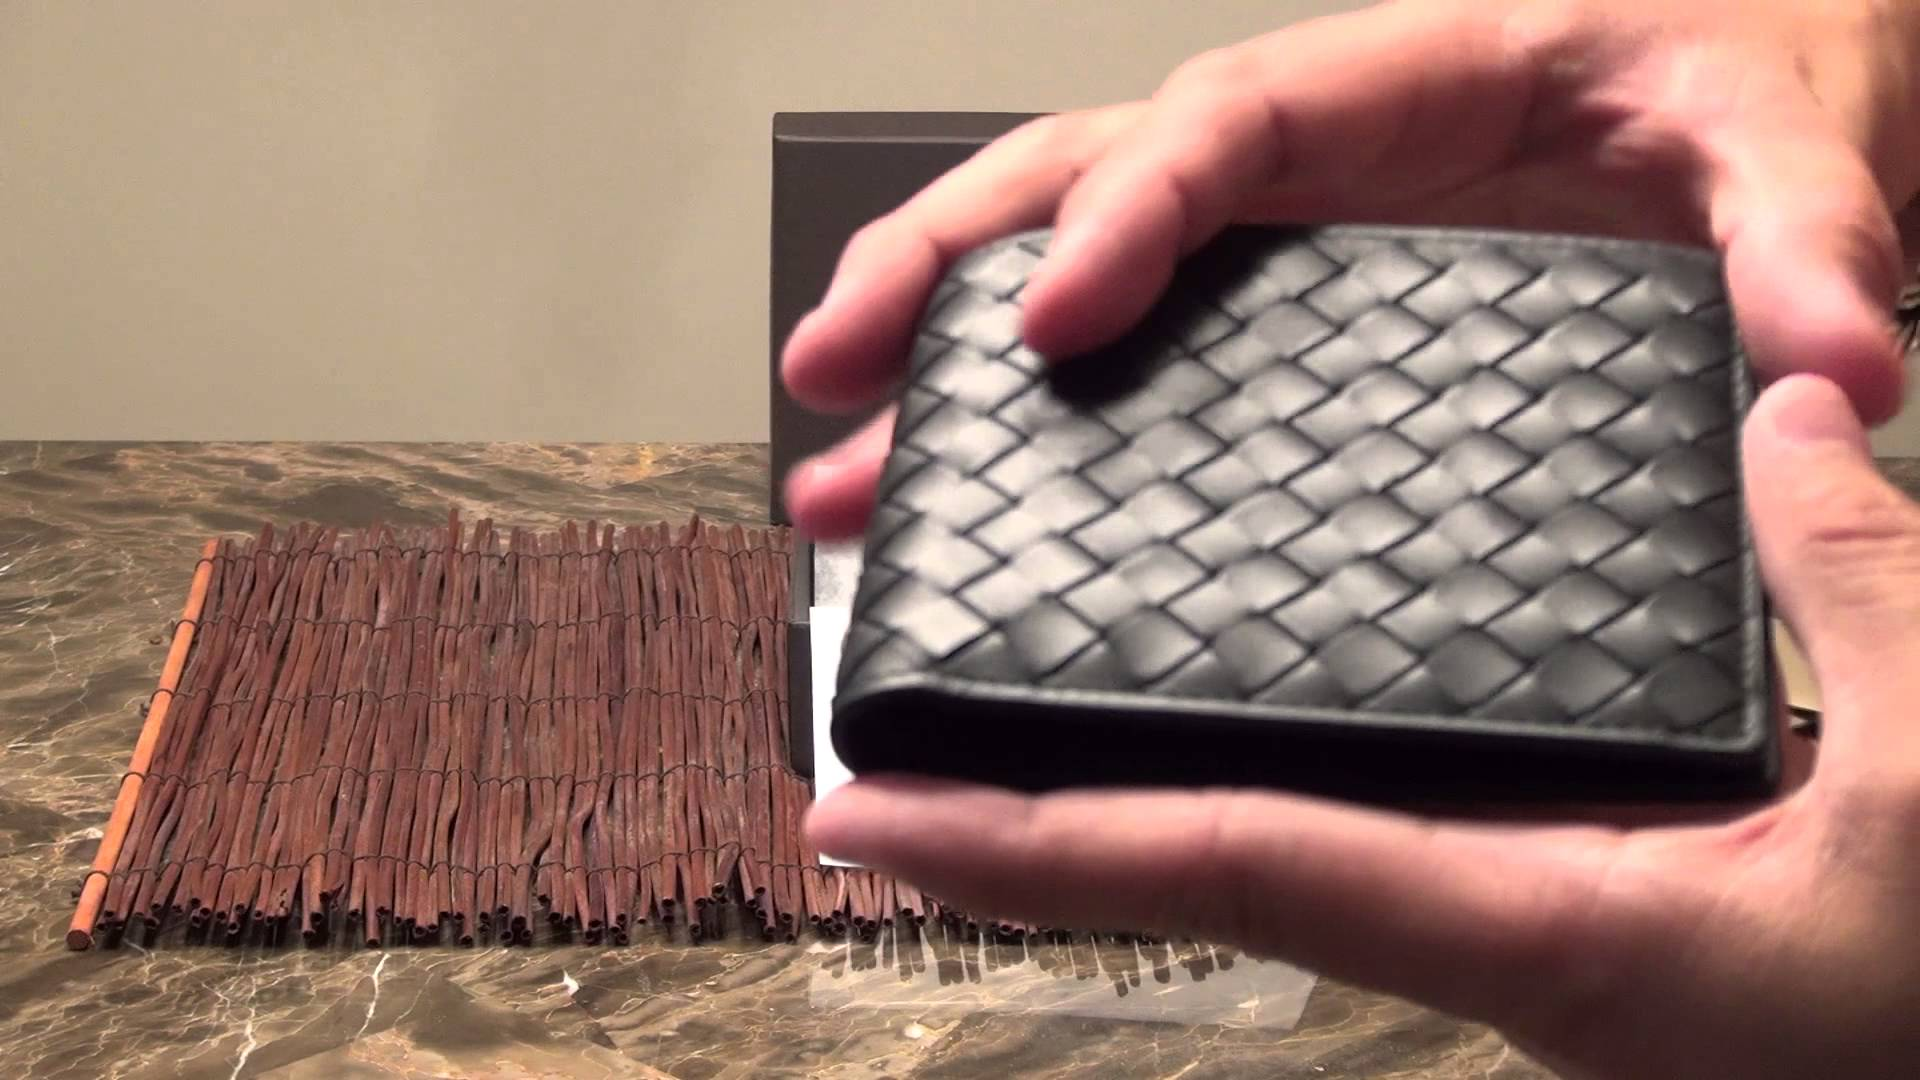monedero: (825, 216, 1788, 815)
